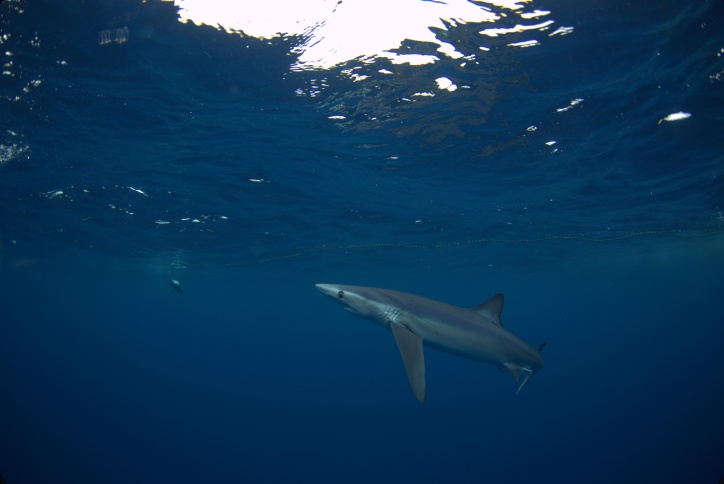Azul: (296, 263, 570, 415)
